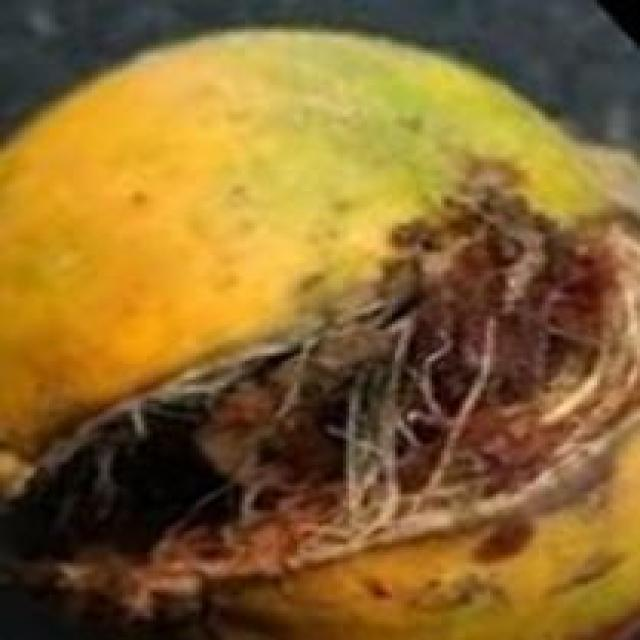damaged: (0, 29, 637, 637)
